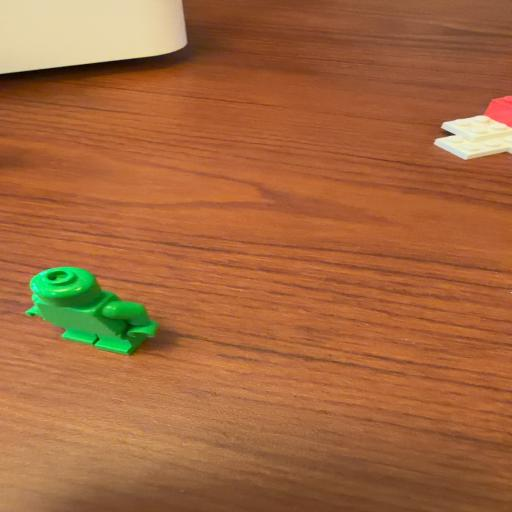UnoQ-minifig-detector: (25, 265, 160, 355)
